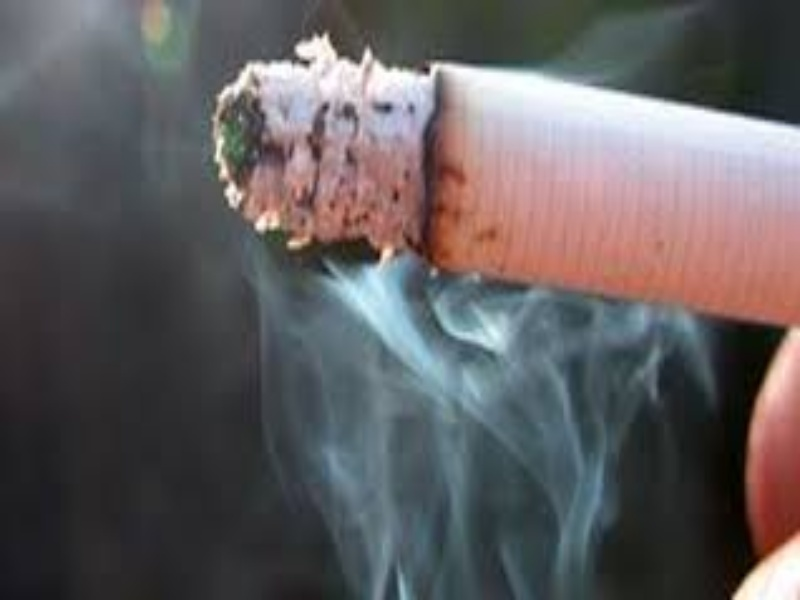smoke: (291, 257, 585, 593)
